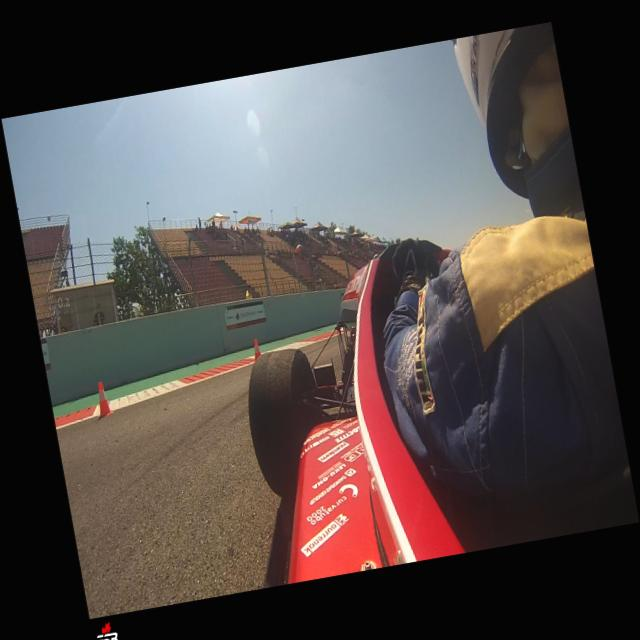orange_cone: (91, 380, 112, 418), (251, 338, 261, 361)
